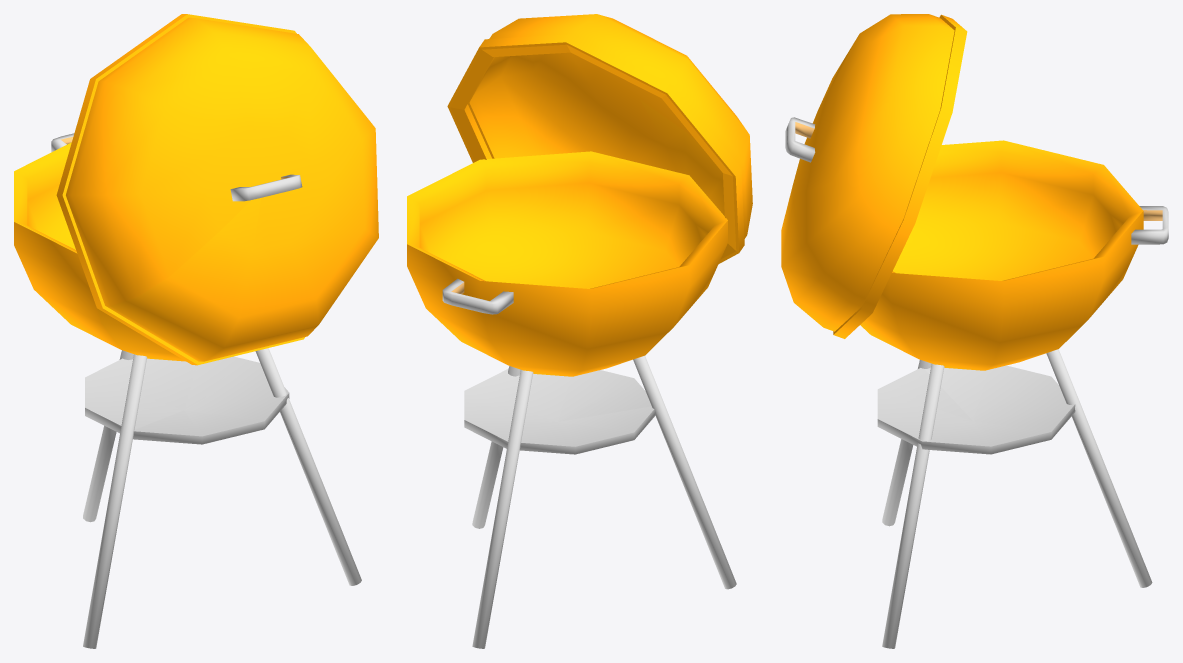
The model's file is PortableBarbecueGrillGoldOpened.glb.
The picture shows the model from 3 angles, left to right: view 1: azimuth 30°, elevation 25°; view 2: azimuth 150°, elevation 25°; view 3: azimuth 270°, elevation 25°; orthographic projection. The views are drawn at different scales.
Visible parts, largest first — view 1: PortableBarbecueGrillGoldOpened; view 2: PortableBarbecueGrillGoldOpened; view 3: PortableBarbecueGrillGoldOpened.
Boxes of the visible parts, box(x1,y1,x2,y2) form: PortableBarbecueGrillGoldOpened: box(14, 14, 378, 648); PortableBarbecueGrillGoldOpened: box(407, 14, 752, 648); PortableBarbecueGrillGoldOpened: box(781, 14, 1168, 648).
Bounding box in the file's own units: 0.7781 × 1.42 × 0.8859.
1 material, 1 textured.
